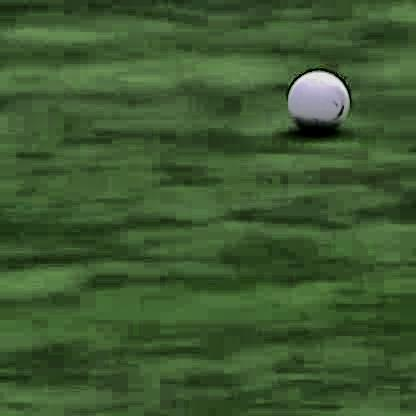golfball: (283, 64, 345, 129)
